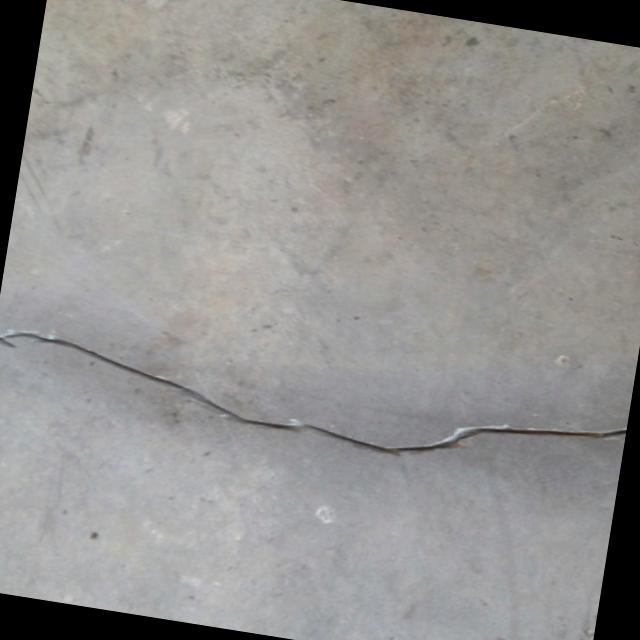crack: (0, 316, 627, 492)
